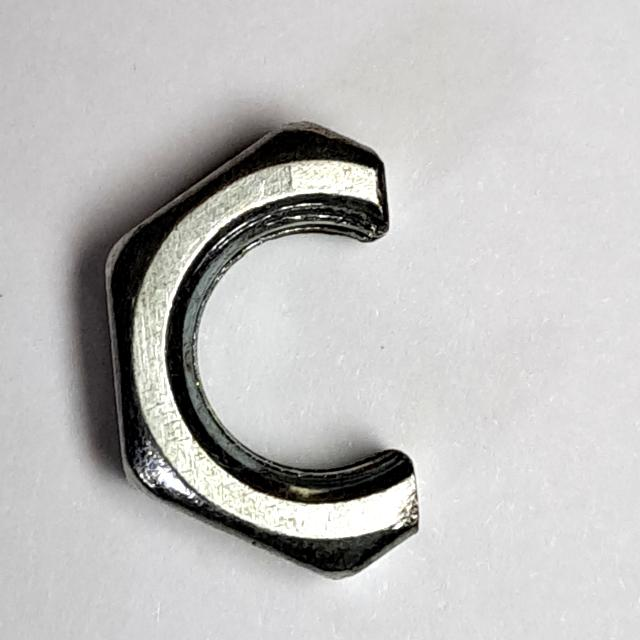Fracture: (92, 102, 451, 598)
